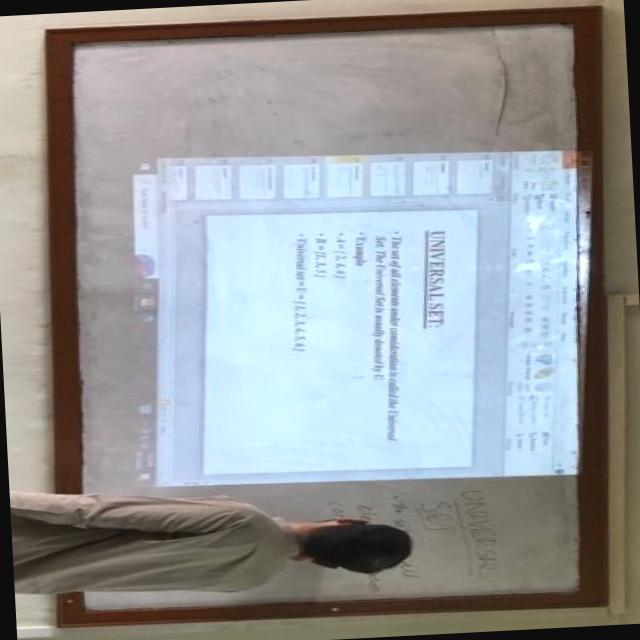Instructor: (15, 485, 416, 606)
Slide: (120, 146, 590, 490)
White-board: (62, 13, 595, 625)
